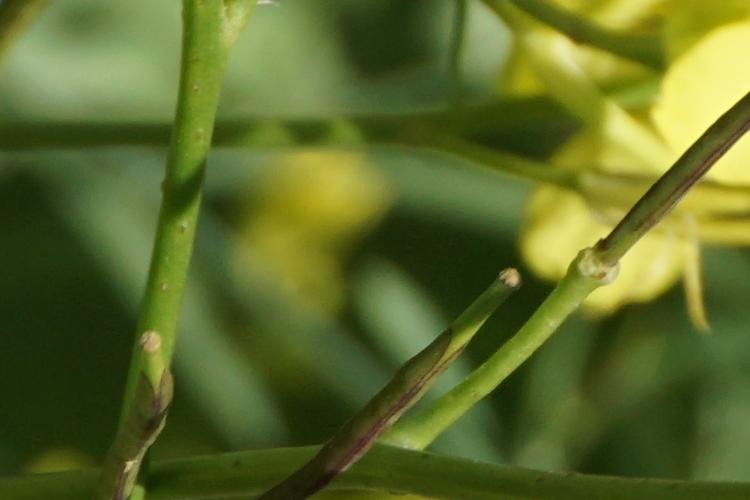pod: (297, 248, 540, 500), (565, 98, 750, 289), (89, 325, 183, 500)
yellow: (528, 14, 750, 285)
